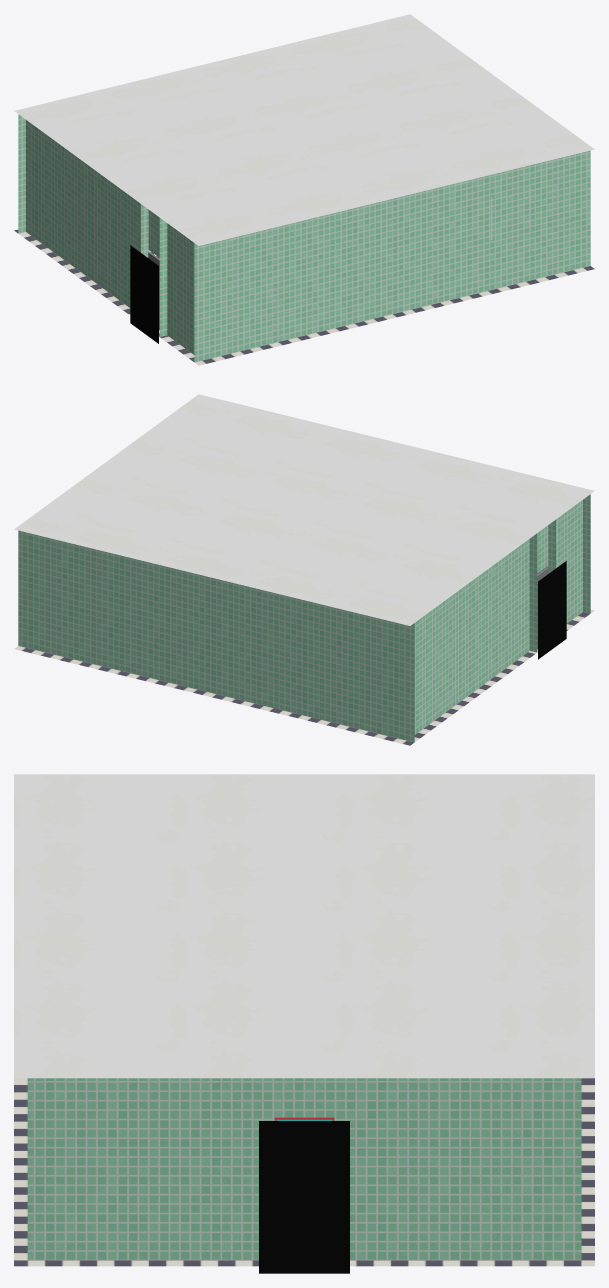
Rendered from rdwe_tiny_kitchen.glb.
3 renders of one model, top to bottom at view 1: azimuth 30°, elevation 25°; view 2: azimuth 150°, elevation 25°; view 3: azimuth 270°, elevation 25°, orthographic. The views are drawn at different scales.
Parts seen in each view (by area): view 1: Ceil_White, Wall_Mint_Tile, Floor_Checker, Void, Trim_Mint; view 2: Ceil_White, Wall_Mint_Tile, Floor_Checker, Void; view 3: Ceil_White, Wall_Mint_Tile, Void, Floor_Checker.
Boxes of the visible parts, <box> form: Ceil_White: <box>14,14,594,245</box>; Wall_Mint_Tile: <box>18,114,590,362</box>; Floor_Checker: <box>14,229,594,365</box>; Void: <box>130,245,158,343</box>; Trim_Mint: <box>148,187,530,320</box>; Ceil_White: <box>14,394,594,625</box>; Wall_Mint_Tile: <box>18,494,590,742</box>; Floor_Checker: <box>14,609,594,745</box>; Void: <box>538,561,566,659</box>; Ceil_White: <box>14,774,594,1078</box>; Wall_Mint_Tile: <box>27,1078,581,1260</box>; Void: <box>259,1121,349,1273</box>; Floor_Checker: <box>14,1078,594,1266</box>.
Size of the model in its own units: 10.7 by 3.05 by 8.4.
Materials: 25 (18 with a texture image).
